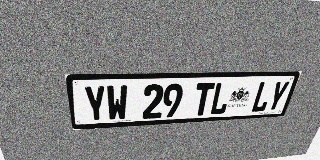2: (143, 84, 164, 119)
9: (162, 83, 184, 118)
L: (209, 82, 233, 115), (250, 81, 275, 112)
T: (192, 83, 215, 116)
W: (106, 85, 127, 121)
Y: (83, 85, 107, 122), (265, 81, 291, 112)
